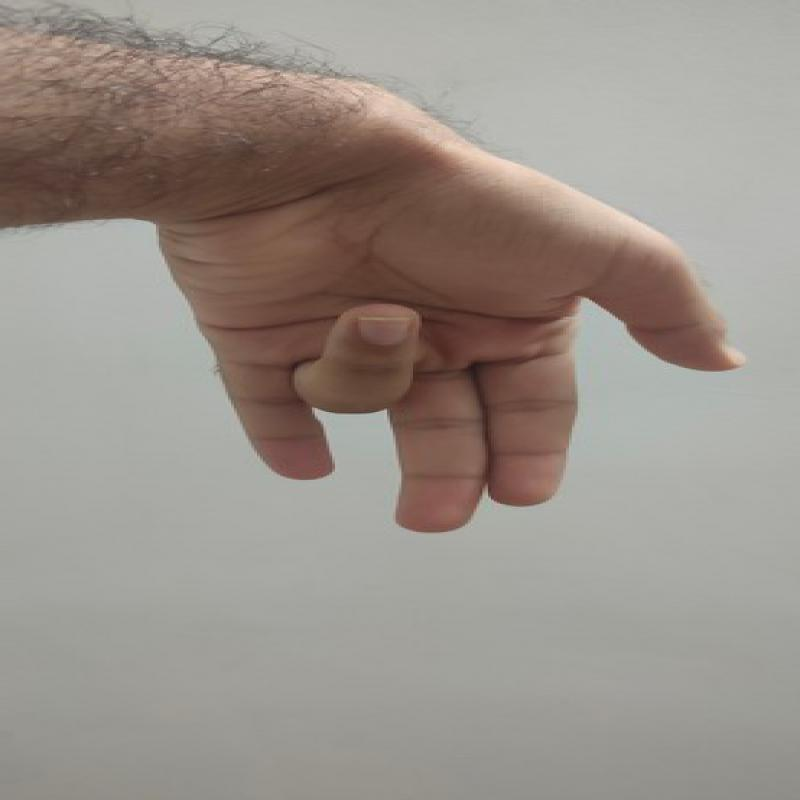Pathaaka: (154, 172, 755, 540)
